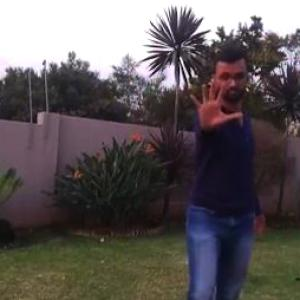follow_hand: (187, 69, 248, 134)
